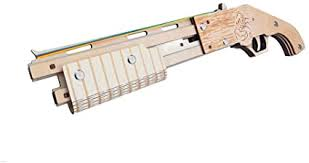weapon: (27, 2, 305, 114)
